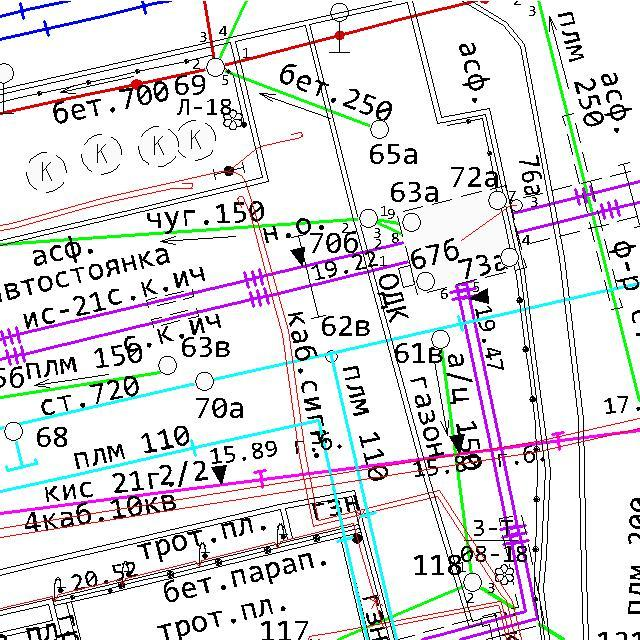asphalt: (457, 41, 493, 106), (599, 69, 634, 135)
bushes: (79, 132, 124, 177), (24, 150, 68, 194), (136, 124, 180, 168), (177, 118, 217, 162), (221, 108, 244, 132), (494, 563, 515, 586)
mark: (469, 286, 491, 306), (448, 432, 466, 455), (211, 462, 228, 486), (289, 246, 306, 268)
sing: (328, 1, 351, 55)
well: (204, 55, 227, 79), (368, 117, 391, 141), (2, 420, 25, 443), (156, 354, 179, 376), (193, 370, 216, 392), (429, 329, 452, 351), (486, 189, 508, 211), (462, 571, 483, 594), (415, 270, 436, 292), (401, 211, 422, 233), (358, 207, 379, 229), (500, 246, 520, 268)
